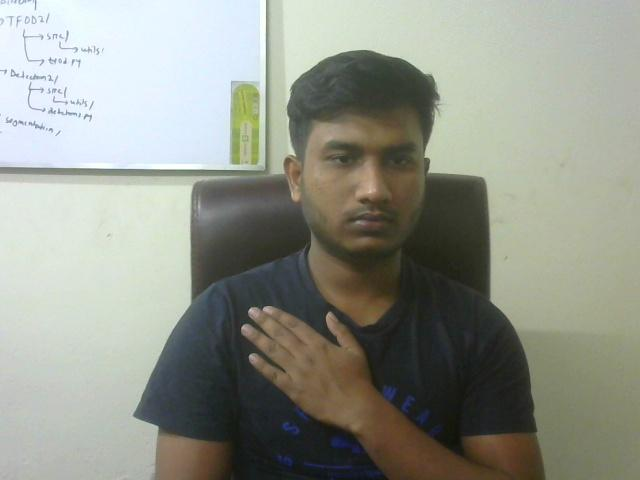Please: (228, 284, 410, 441)
